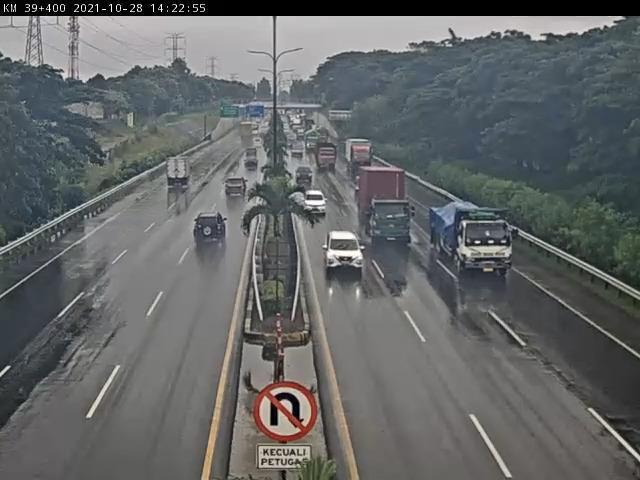truck: (425, 198, 513, 274), (354, 166, 414, 246), (163, 156, 193, 188)
